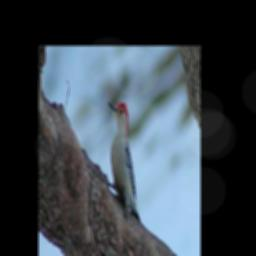Woodpecker: (106, 98, 141, 224)
